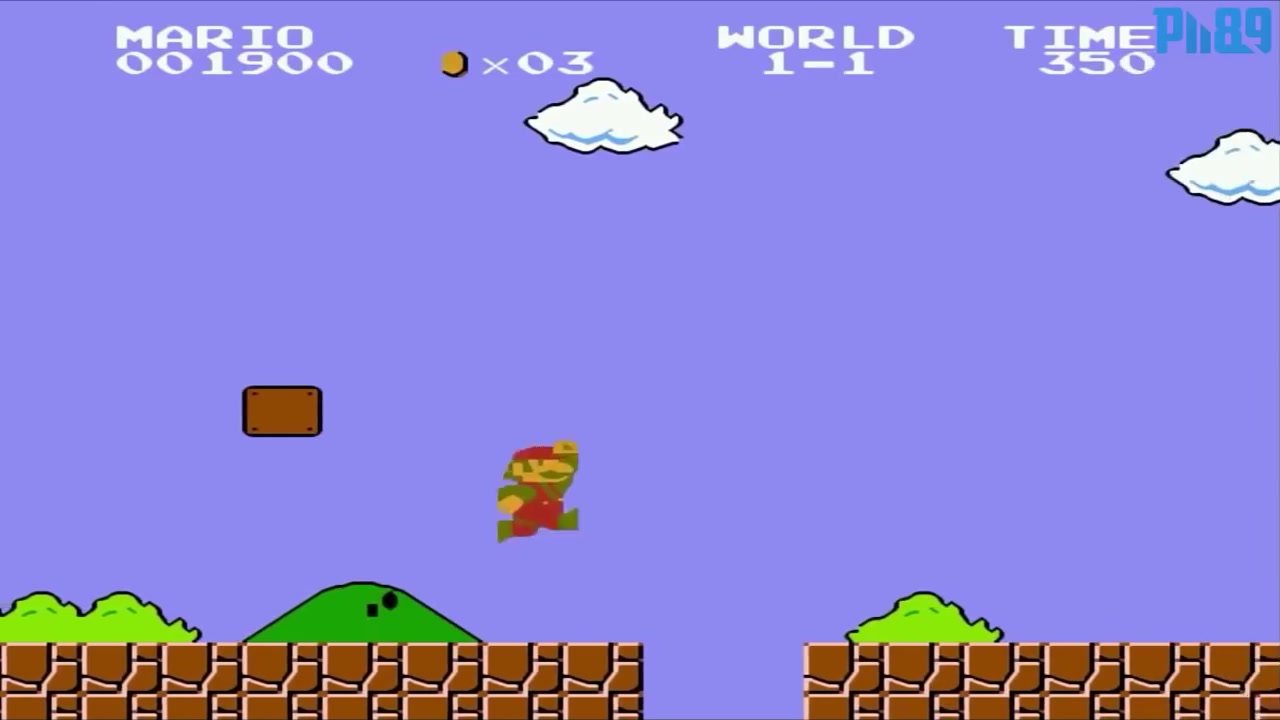mario: (487, 433, 586, 557)
